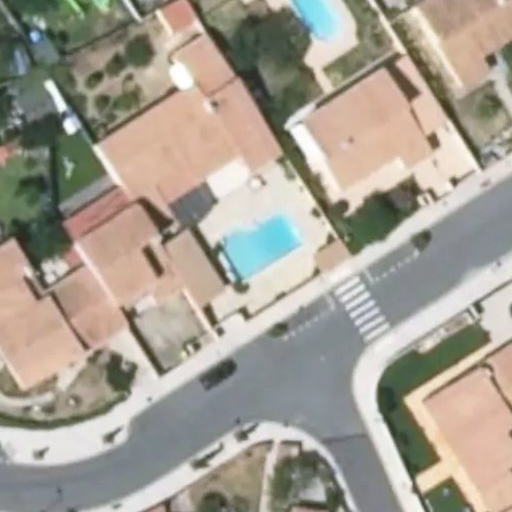pool: (218, 215, 303, 285), (293, 1, 341, 44)
